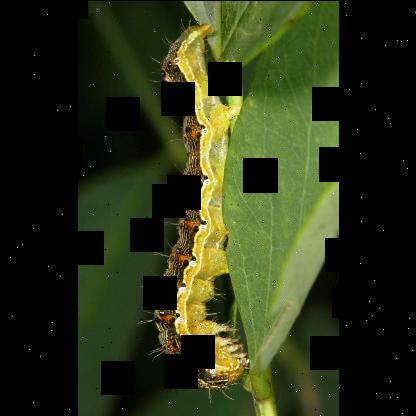oruga: (140, 11, 246, 413)
